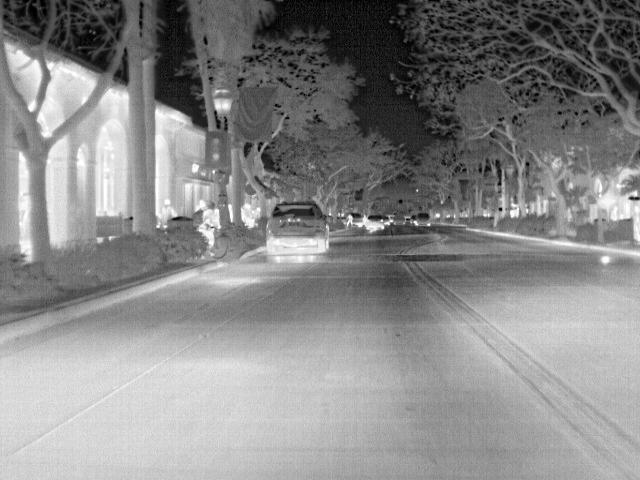car: (265, 201, 332, 252), (412, 212, 432, 229), (366, 214, 386, 230), (391, 213, 408, 227), (351, 213, 365, 226)
person: (197, 207, 223, 250), (159, 197, 178, 228), (345, 211, 357, 228)
